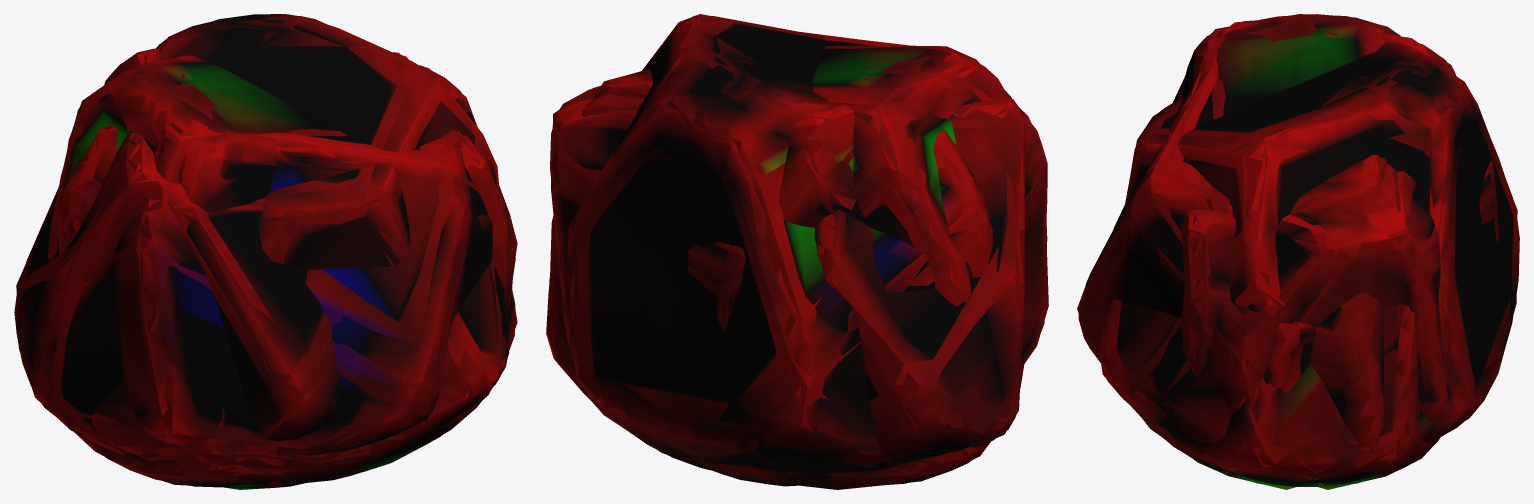
File: cliff.gltf
The picture shows the model from 3 angles, left to right: view 1: azimuth 30°, elevation 25°; view 2: azimuth 150°, elevation 25°; view 3: azimuth 270°, elevation 25°; orthographic projection. The views are drawn at different scales.
Parts seen in each view (by area): view 1: lod0, shadow; view 2: lod0, shadow; view 3: lod0, shadow.
Boxes of the visible parts, x1,y1,x2,y2 form: lod0: (14,14,515,487); shadow: (16,16,517,489); lod0: (546,15,1047,486); shadow: (546,14,1048,489); lod0: (1078,14,1519,486); shadow: (1077,14,1517,489).
Size of what is drawn, in the model's own units: 2.81 by 2.26 by 2.56.
1 material, 1 textured.
